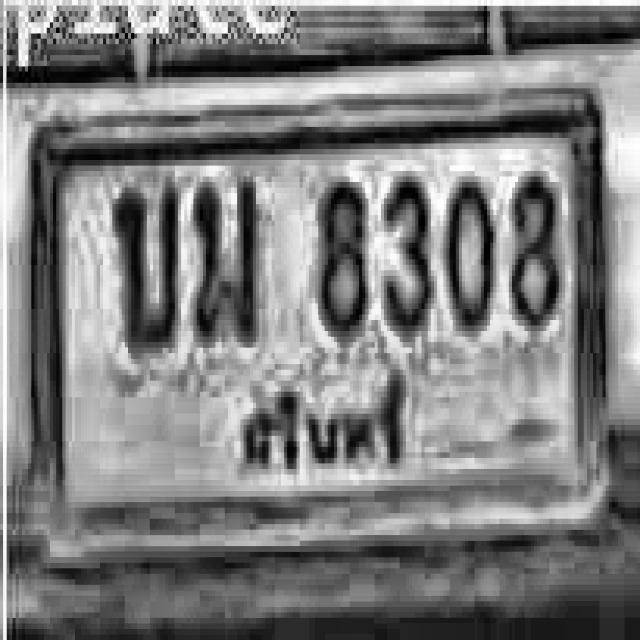license-plate: (25, 76, 609, 556)
